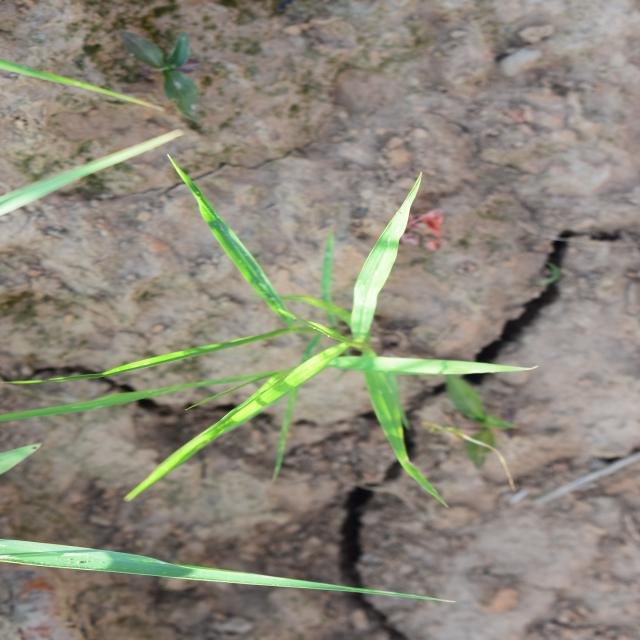green_foxtail: (167, 88, 454, 480)
